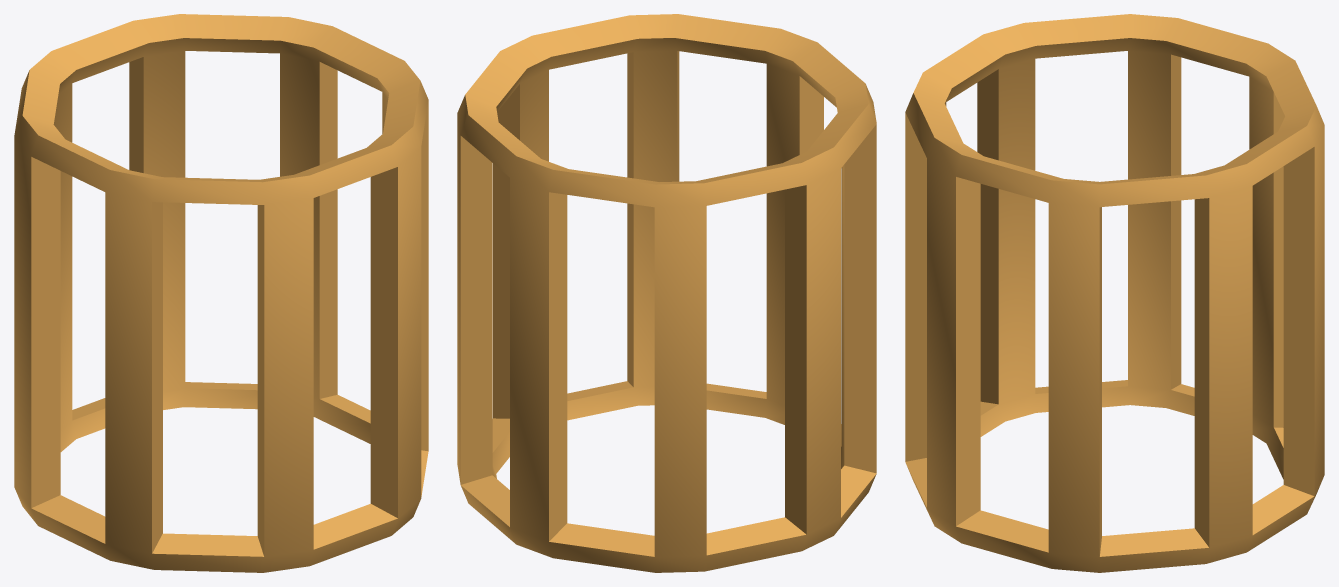
The model's file is CylinderMesh_01.fbx.
The picture shows the model from 3 angles, left to right: view 1: azimuth 30°, elevation 25°; view 2: azimuth 150°, elevation 25°; view 3: azimuth 270°, elevation 25°; orthographic projection.
Visible parts, largest first — view 1: CylinderMesh_01; view 2: CylinderMesh_01; view 3: CylinderMesh_01.
Boxes of the visible parts, x1,y1,x2,y2 form: CylinderMesh_01: [14, 14, 428, 572]; CylinderMesh_01: [457, 14, 876, 572]; CylinderMesh_01: [905, 14, 1324, 572].
Size of the model in its own units: 313 by 320 by 313.
